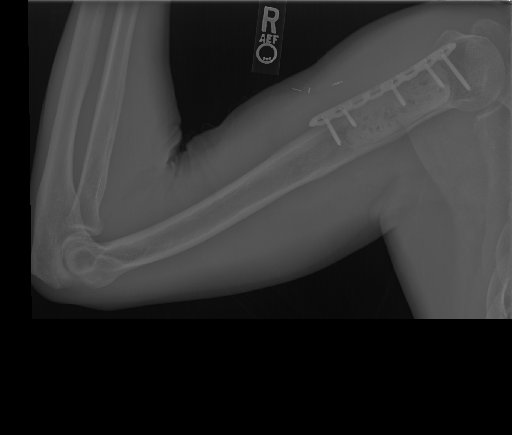implant: (310, 39, 477, 154)
